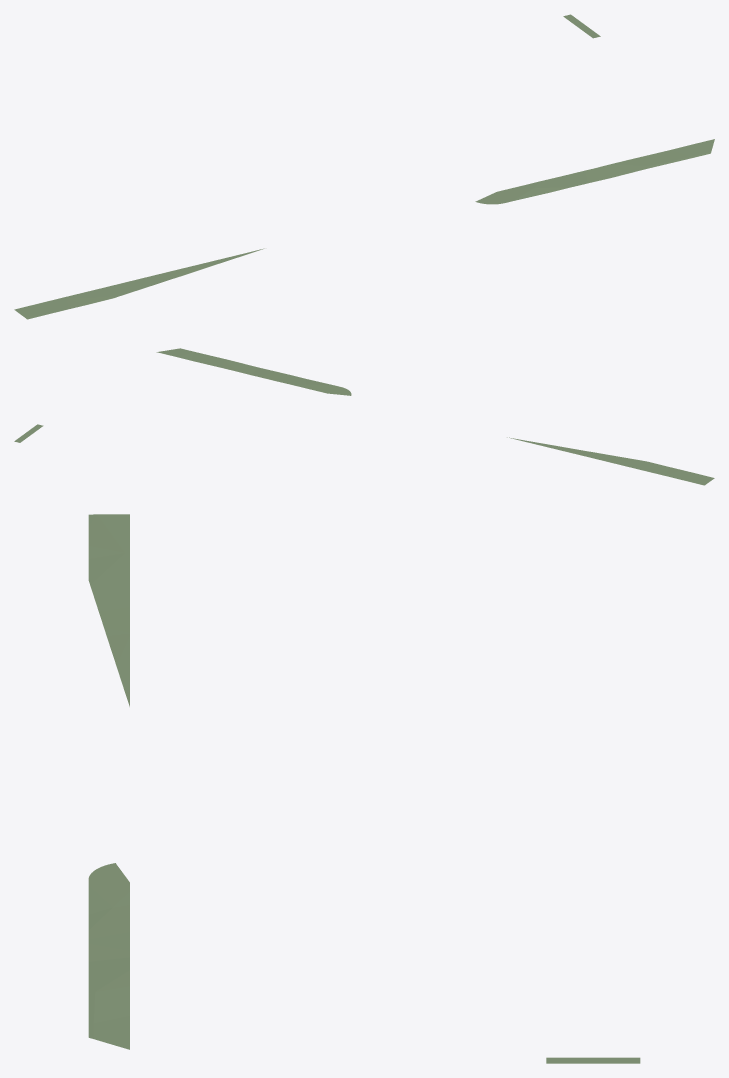
File: SM_MPRR_CampusGreen_0_-1.fbx
The picture shows the model from 3 angles, top to bottom: view 1: azimuth 30°, elevation 25°; view 2: azimuth 150°, elevation 25°; view 3: azimuth 270°, elevation 25°; orthographic projection. The views are drawn at different scales.
Parts seen in each view (by area): view 1: SM_MPRR_CampusGreen_0_-1; view 2: SM_MPRR_CampusGreen_0_-1; view 3: SM_MPRR_CampusGreen_0_-1.
Part boxes in pixels (x1,y1,x2,y2): SM_MPRR_CampusGreen_0_-1: [14, 14, 714, 319]; SM_MPRR_CampusGreen_0_-1: [14, 348, 714, 485]; SM_MPRR_CampusGreen_0_-1: [88, 514, 640, 1063].
Bounding box in the file's own units: 15000 × 6367 × 24.22.
